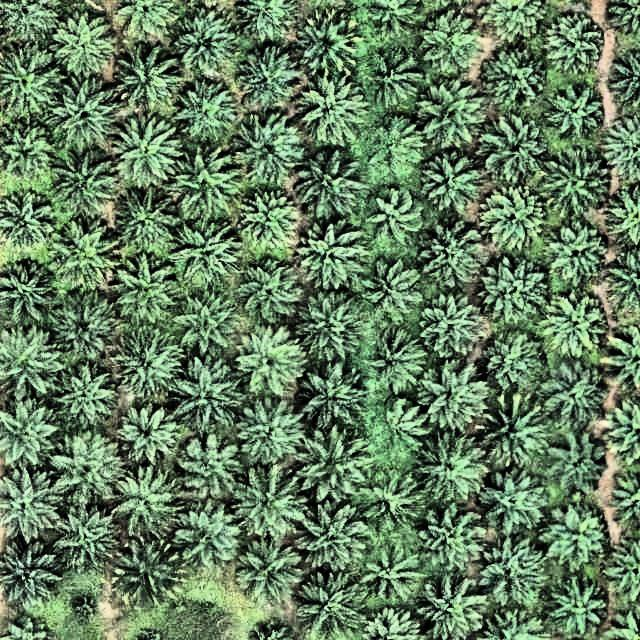Kelapa_Sawit: (50, 146, 120, 217), (50, 225, 120, 296), (111, 256, 181, 327), (483, 44, 553, 115), (544, 146, 614, 217), (296, 429, 366, 500), (297, 502, 367, 573), (294, 566, 364, 637), (233, 398, 303, 469), (231, 466, 301, 537), (169, 291, 239, 362), (170, 360, 240, 431), (113, 331, 183, 402), (111, 535, 181, 605), (292, 9, 362, 79), (168, 9, 238, 79), (50, 79, 120, 149), (48, 292, 118, 362), (111, 42, 181, 112), (109, 117, 179, 187), (110, 185, 180, 255), (167, 75, 237, 145), (166, 148, 236, 218), (171, 219, 241, 289), (231, 115, 301, 185), (233, 255, 303, 325), (294, 74, 364, 144), (291, 147, 361, 217), (294, 223, 364, 293), (295, 290, 365, 360), (419, 80, 489, 150), (418, 147, 488, 217), (417, 290, 487, 360), (483, 115, 553, 185), (482, 255, 552, 325), (476, 328, 546, 398), (476, 400, 546, 470), (478, 465, 548, 535), (475, 534, 545, 604), (419, 362, 489, 432), (413, 432, 483, 502), (417, 505, 487, 575), (295, 362, 365, 432), (232, 327, 302, 397), (234, 535, 304, 605), (173, 435, 243, 505), (176, 502, 246, 572), (110, 467, 180, 537), (48, 433, 118, 503), (50, 500, 120, 570), (415, 575, 483, 639), (0, 537, 62, 606), (0, 469, 58, 541), (0, 400, 58, 470), (0, 43, 52, 119), (0, 325, 58, 393), (53, 14, 115, 77), (235, 48, 297, 111), (237, 187, 299, 250), (423, 225, 485, 288), (484, 185, 546, 248), (548, 221, 610, 284), (544, 293, 606, 356), (542, 363, 604, 426), (547, 435, 609, 498), (548, 504, 610, 567), (546, 575, 608, 638), (364, 329, 426, 392), (116, 403, 178, 466), (55, 366, 117, 429), (425, 12, 487, 74), (545, 12, 607, 74), (547, 81, 609, 143), (359, 470, 421, 532), (361, 545, 423, 607), (0, 187, 52, 256), (0, 256, 50, 322), (366, 53, 421, 108), (369, 402, 424, 457), (368, 118, 422, 173), (365, 189, 419, 244), (366, 262, 420, 317), (112, 0, 174, 42), (0, 121, 52, 171), (236, 0, 294, 42), (0, 0, 52, 40), (72, 592, 103, 623)
